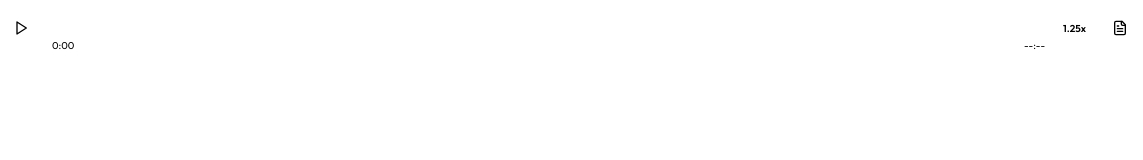
Test: AudioMessagePlayer - Playback Speed Controls › cycles through all speeds in correct order
Earlier steps of the test are not shown.
Click the button titled "Velocidade": (1075,29) 1057,17 -> 1092,41
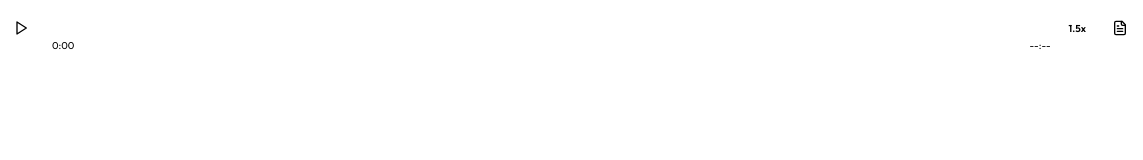
Expected: the button titled "Velocidade" reads "1.5x"
Click the button titled "Velocidade": (1077,29) 1063,17 -> 1092,41
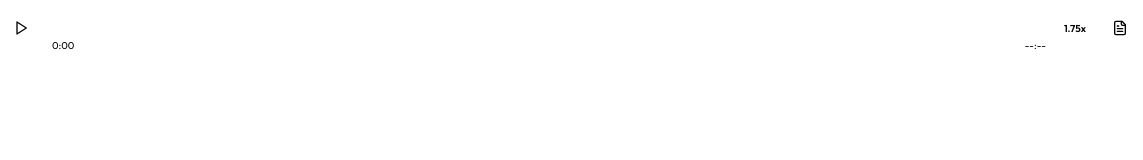
Expected: the button titled "Velocidade" reads "1.75x"
Click the button titled "Velocidade": (1075,29) 1058,17 -> 1092,41
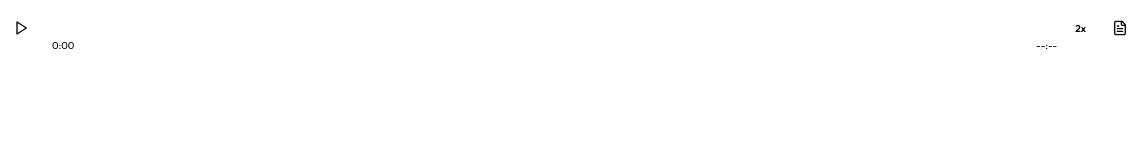
Expected: the button titled "Velocidade" reads "2x"
Click the button titled "Velocidade": (1081,29) 1069,17 -> 1092,41
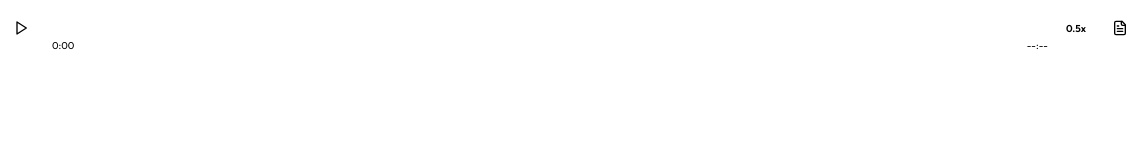
Expected: the button titled "Velocidade" reads "0.5x"
Click the button titled "Velocidade": (1076,29) 1060,17 -> 1092,41
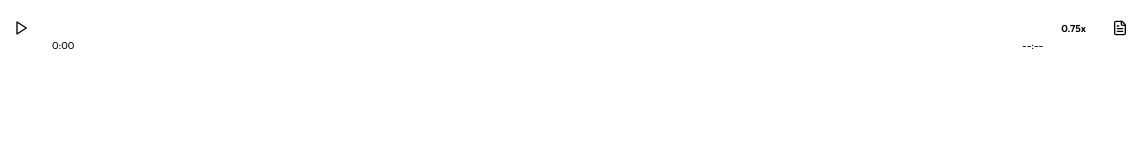
Expected: the button titled "Velocidade" reads "0.75x"
Click the button titled "Velocidade": (1074,29) 1055,17 -> 1092,41
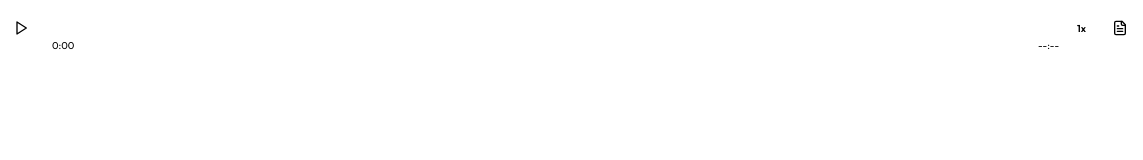
Expected: the button titled "Velocidade" reads "1x", 1071,17 -> 1092,41
